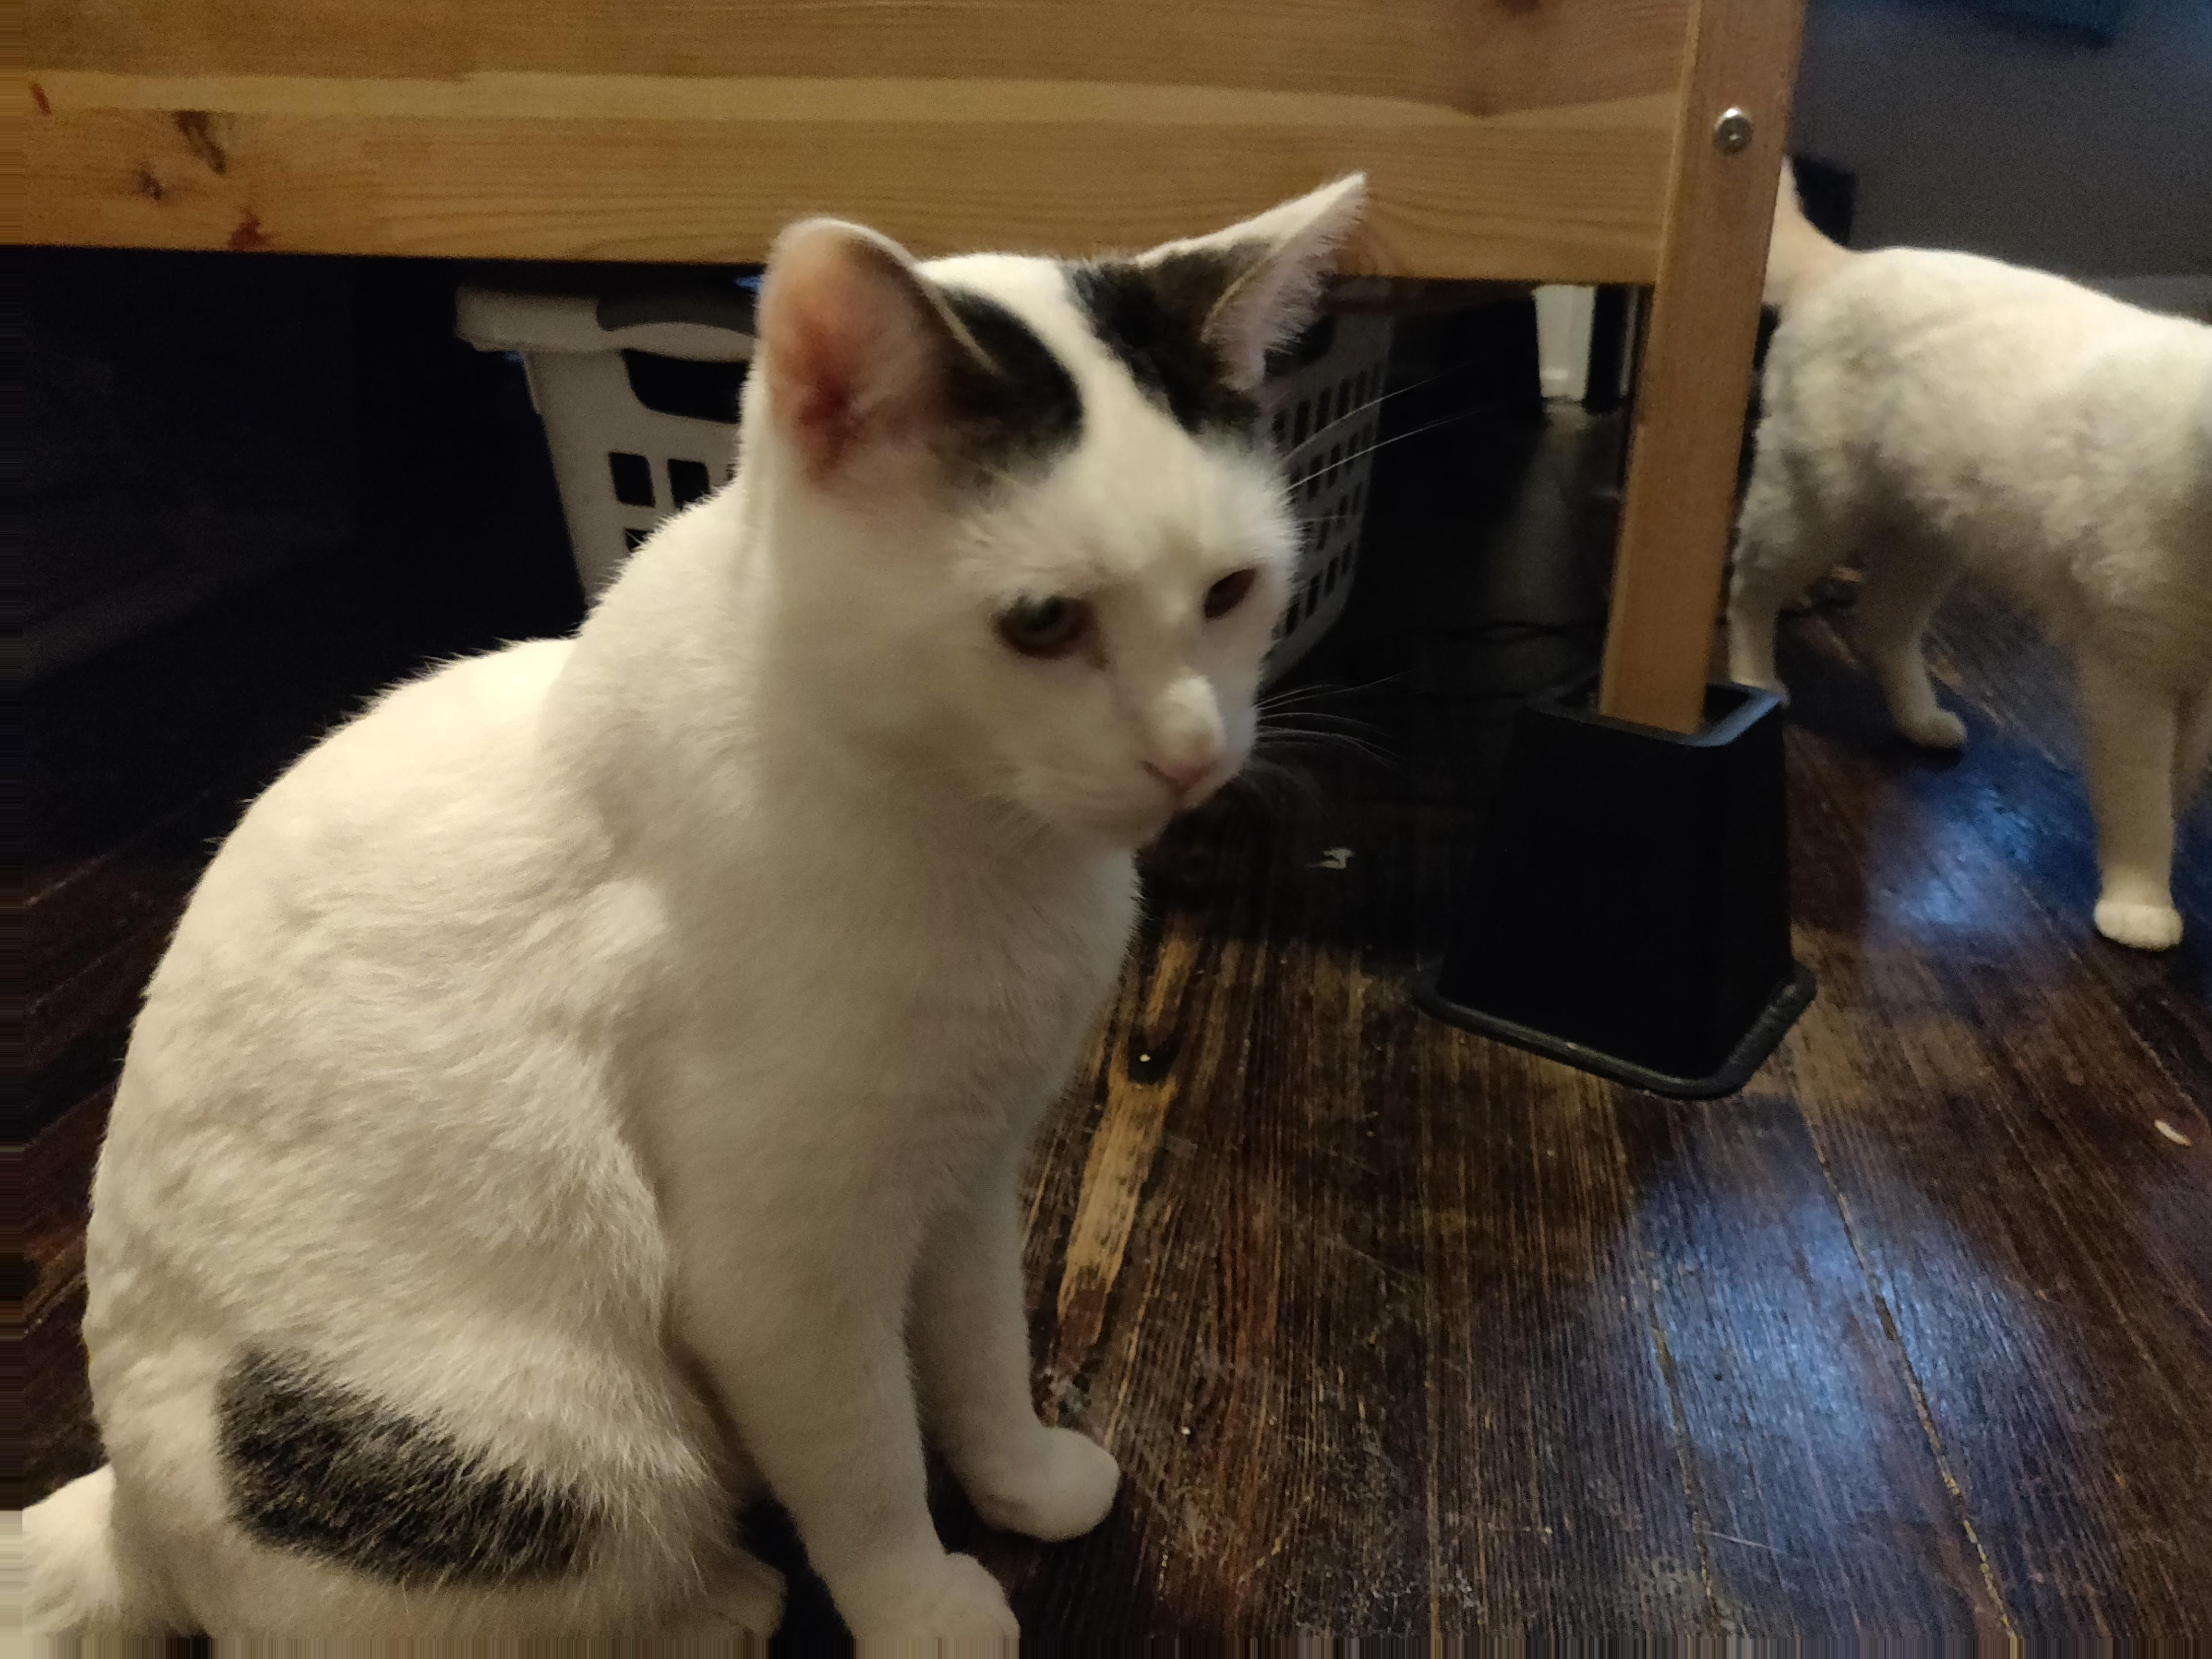cat: (8, 168, 1365, 1647), (1780, 155, 2194, 937)
